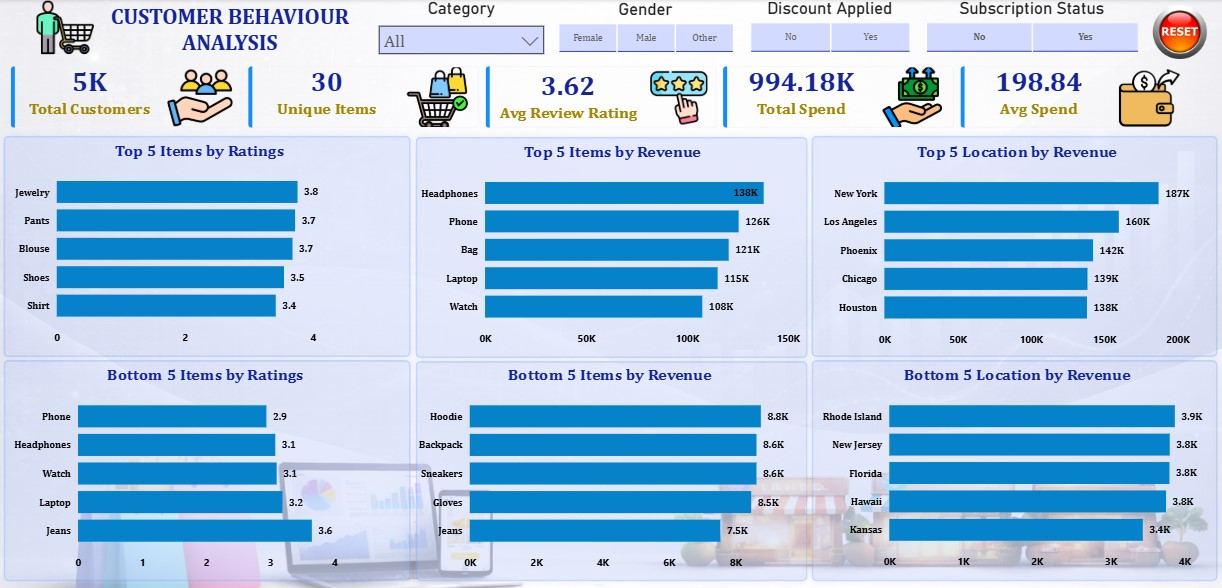

The dashboard page shown, as its layout file describes it:
{"tool":"powerbi","page":{"name":"Best-Worst","canvas":[1500,720],"ordinal":1},"visuals":[{"type":"cardVisual","fields":{"Data":["customer_table.Total Customers","customer_table.Unique Item Purchase","customer_table.Avg Review Rating","customer_table.Total Spend","customer_table.Avg Spend"]},"box":[0,65.4,1480.9,109.8],"z":0},{"type":"shape","box":[0,159.2,513.4,286.3],"z":1000},{"type":"shape","box":[0,433.2,513.4,286.3],"z":2000},{"type":"shape","box":[503.5,160.4,494.9,286.3],"z":3000},{"type":"shape","box":[987.3,159.2,512.1,286.3],"z":4000},{"type":"shape","box":[503.5,434.4,494.9,285.1],"z":5000},{"type":"shape","box":[987.3,433.2,512.1,286.3],"z":6000},{"type":"clusteredBarChart","title":"Top 5 Items by Ratings","fields":{"Category":["customer_table.item_purchased"],"Y":["Avg(customer_table.review_rating)"]},"box":[16,172.8,462.8,259.2],"z":7000},{"type":"clusteredBarChart","title":"Bottom 5 Items by Ratings","fields":{"Category":["customer_table.item_purchased"],"Y":["Avg(customer_table.review_rating)"]},"box":[16,446.7,477.6,260.4],"z":8000},{"type":"clusteredBarChart","title":"Top 5 Items by Revenue","fields":{"Category":["customer_table.item_purchased"],"Y":["Sum(customer_table.purchase_amount)"]},"box":[513.4,174,477.6,259.2],"z":9000},{"type":"clusteredBarChart","title":"Bottom 5 Items by Revenue","fields":{"Category":["customer_table.item_purchased"],"Y":["Sum(customer_table.purchase_amount)"]},"box":[509.7,446.7,477.6,260.4],"z":10000},{"type":"clusteredBarChart","title":"Top 5 Location by Revenue","fields":{"Y":["Sum(customer_table.purchase_amount)"],"Category":["customer_table.location"]},"box":[1003.3,174,486.2,260.4],"z":11000},{"type":"clusteredBarChart","title":"Bottom 5 Location by Revenue","fields":{"Y":["Sum(customer_table.purchase_amount)"],"Category":["customer_table.location"]},"box":[1003.3,446.7,486.2,259.2],"z":11001},{"type":"textbox","box":[127.2,0,314.6,79.3],"z":11002},{"type":"image","box":[13.7,0,139.5,69.8],"z":11003},{"type":"slicer","title":"Category","fields":{"Values":["customer_table.category"]},"box":[456.9,0,221.6,69.8],"z":11004},{"type":"slicer","title":"Gender","fields":{"Values":["customer_table.gender"]},"box":[661.5,1.2,261.6,70.3],"z":11005},{"type":"slicer","title":"Discount Applied","fields":{"Values":["customer_table.discount_applied"]},"box":[895.9,0,243.1,71.6],"z":11006},{"type":"slicer","title":"Subscription Status","fields":{"Values":["customer_table.subscription_status"]},"box":[1110.7,0,307.3,71.6],"z":11007},{"type":"image","box":[1400.7,1.2,88.9,79],"z":11008}]}

Visuals, with their boxes in screenshot pixels (x1, y1, x2, y2), scaled from the page's 1500x720 canvas onto the 1222x588 screenshot:
cardVisual - customer_table.Total Customers x customer_table.Unique Item Purchase: [0,53,1206,143]
shape: [0,130,418,364]
shape: [0,354,418,587]
shape: [410,131,813,365]
shape: [804,130,1221,364]
shape: [410,355,813,587]
shape: [804,354,1221,587]
"Top 5 Items by Ratings" clusteredBarChart: [13,141,390,353]
"Bottom 5 Items by Ratings" clusteredBarChart: [13,365,402,577]
"Top 5 Items by Revenue" clusteredBarChart: [418,142,807,354]
"Bottom 5 Items by Revenue" clusteredBarChart: [415,365,804,577]
"Top 5 Location by Revenue" clusteredBarChart: [817,142,1213,355]
"Bottom 5 Location by Revenue" clusteredBarChart: [817,365,1213,576]
textbox: [104,0,360,65]
image: [11,0,125,57]
"Category" slicer: [372,0,553,57]
"Gender" slicer: [539,1,752,58]
"Discount Applied" slicer: [730,0,928,58]
"Subscription Status" slicer: [905,0,1155,58]
image: [1141,1,1214,65]
